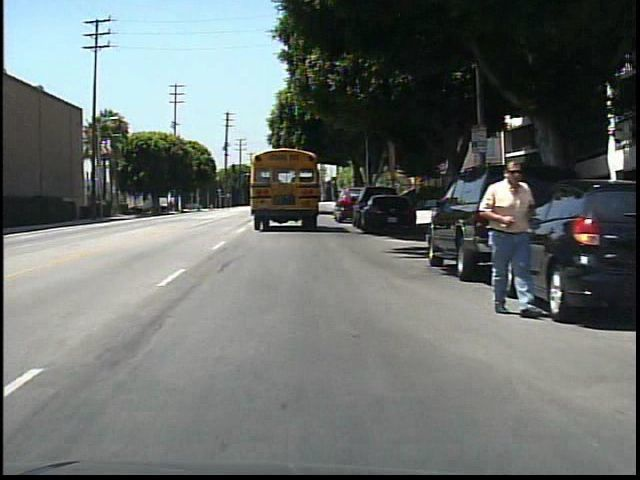person: (478, 150, 545, 323)
